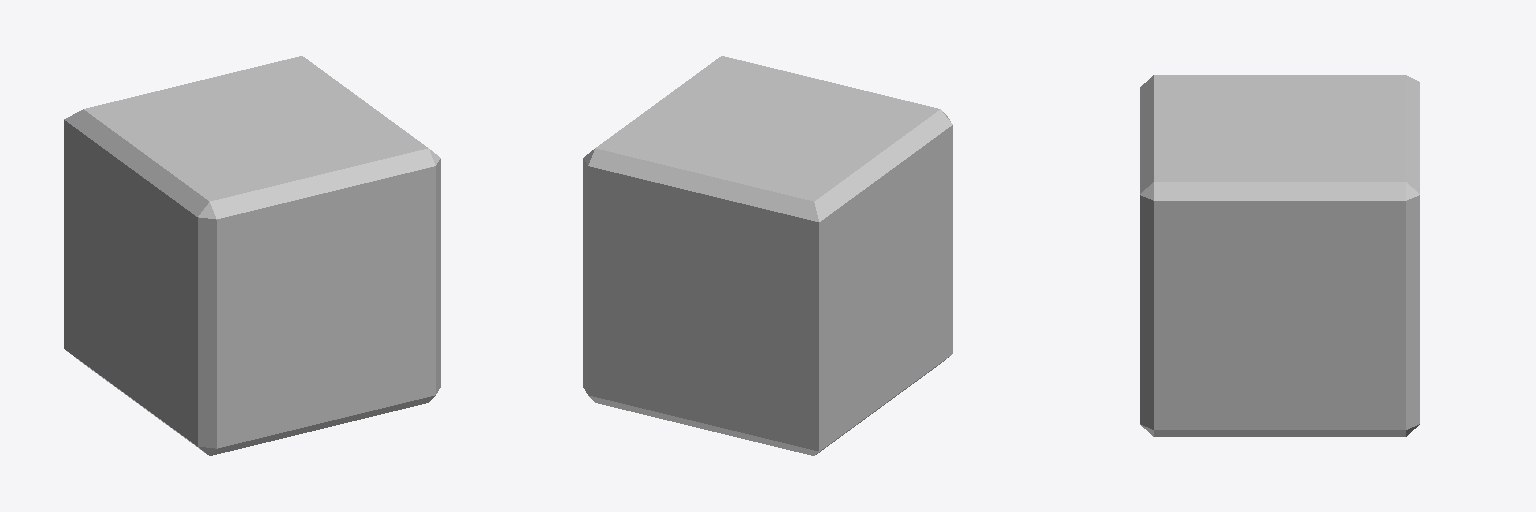
Rendered from goal.obj.
3 renders of one model, left to right at view 1: azimuth 30°, elevation 25°; view 2: azimuth 150°, elevation 25°; view 3: azimuth 270°, elevation 25°, orthographic.
Parts seen in each view (by area): view 1: Cube; view 2: Cube; view 3: Cube.
Part boxes in pixels (left/top/right/bottom): Cube: left=64, top=56, right=440, bottom=455; Cube: left=583, top=56, right=952, bottom=455; Cube: left=1140, top=75, right=1419, bottom=436.
Size of the model in its own units: 2 by 2 by 2.